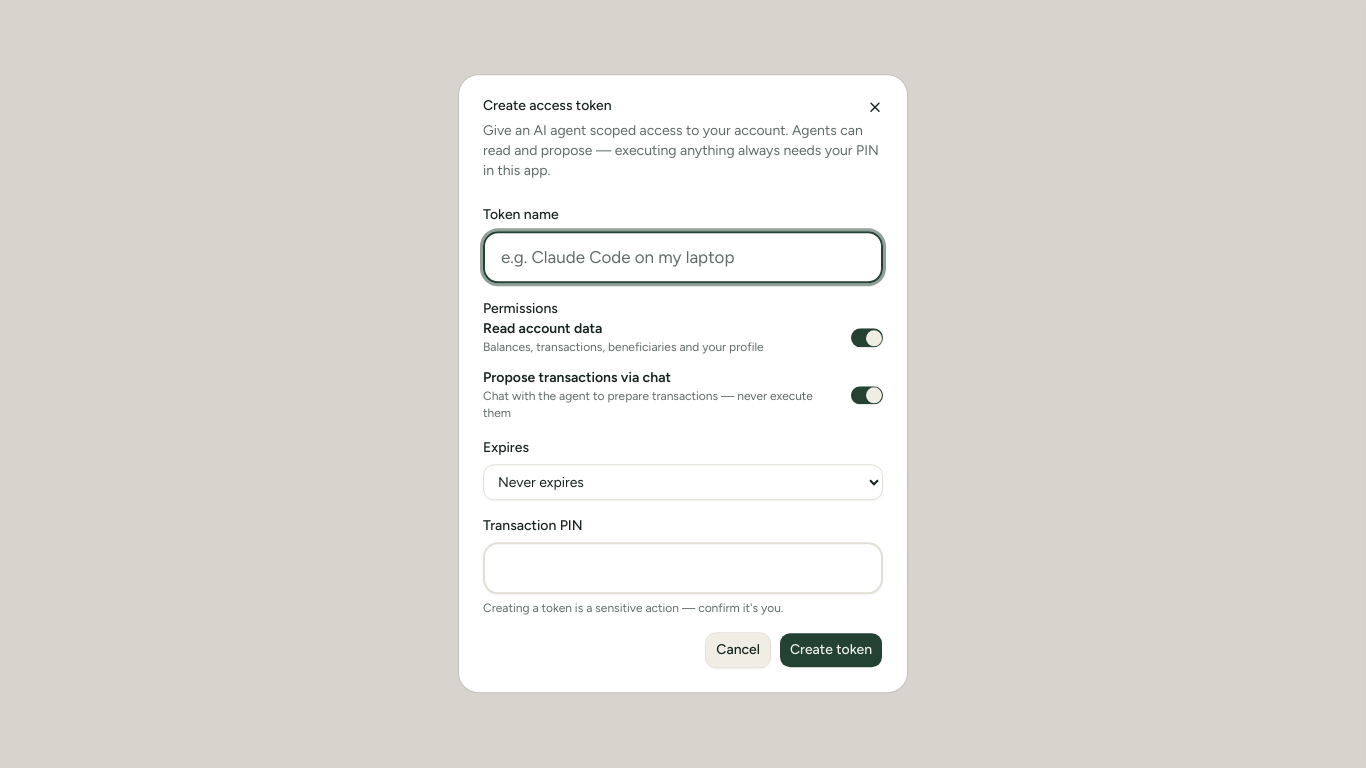
it: CreateTokenDialog › maps PIN errors to distinct copy (lockout)
This screenshot has width=1366, height=768.
Type "Claude" into the field labelled "Token name".
click(683, 257); type("Claude")  # box top-left (483, 231), bottom-right (883, 283)
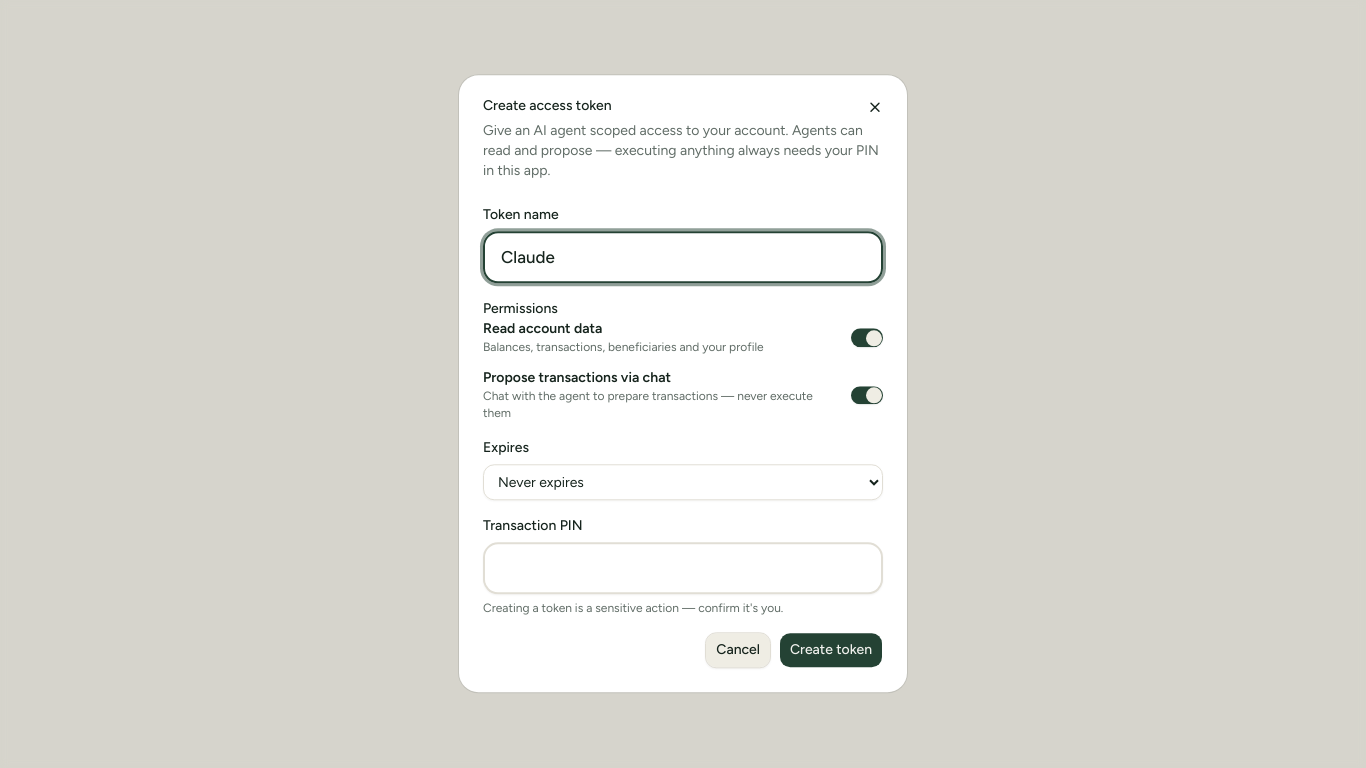
Type "1234" into the password field labelled "Transaction PIN".
click(683, 569); type("1234")  # box top-left (483, 543), bottom-right (883, 595)
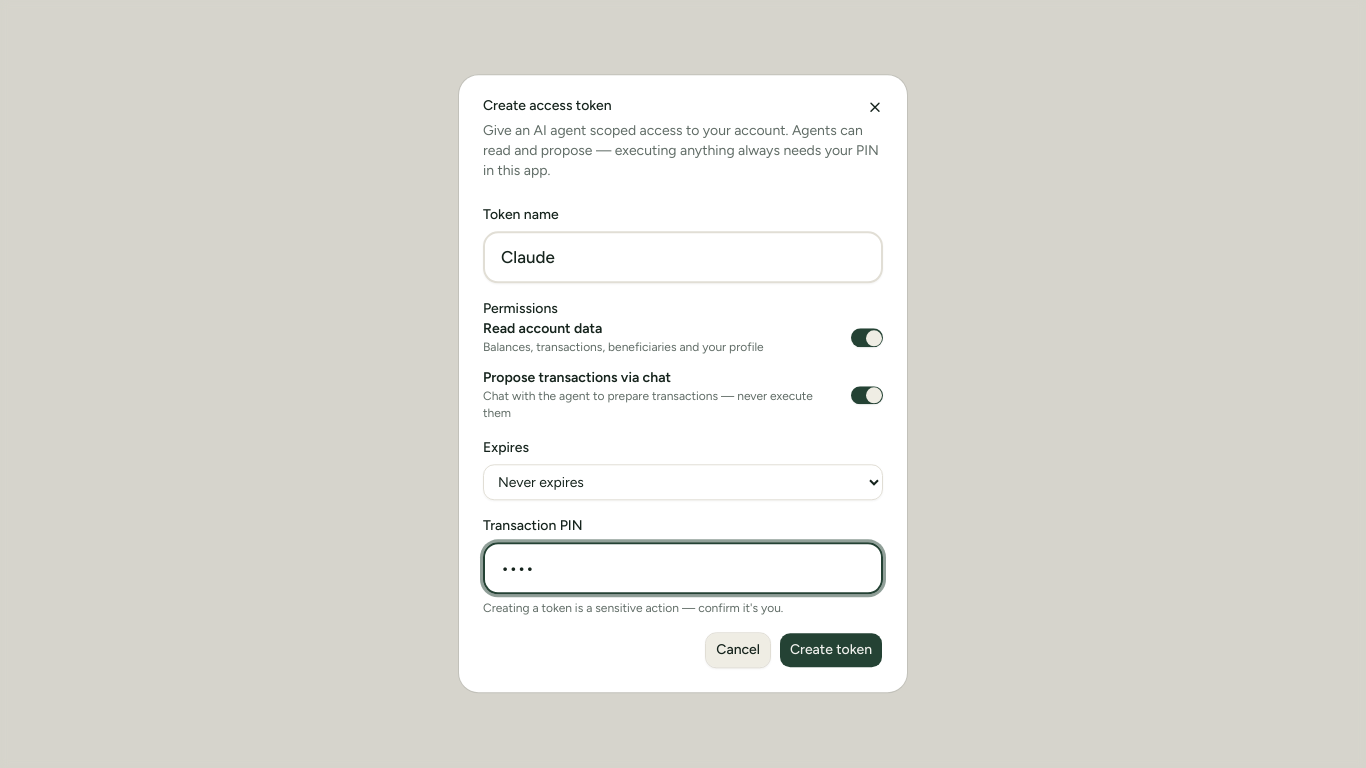
Click the button "Create token".
click(831, 651)  # box top-left (779, 633), bottom-right (883, 669)
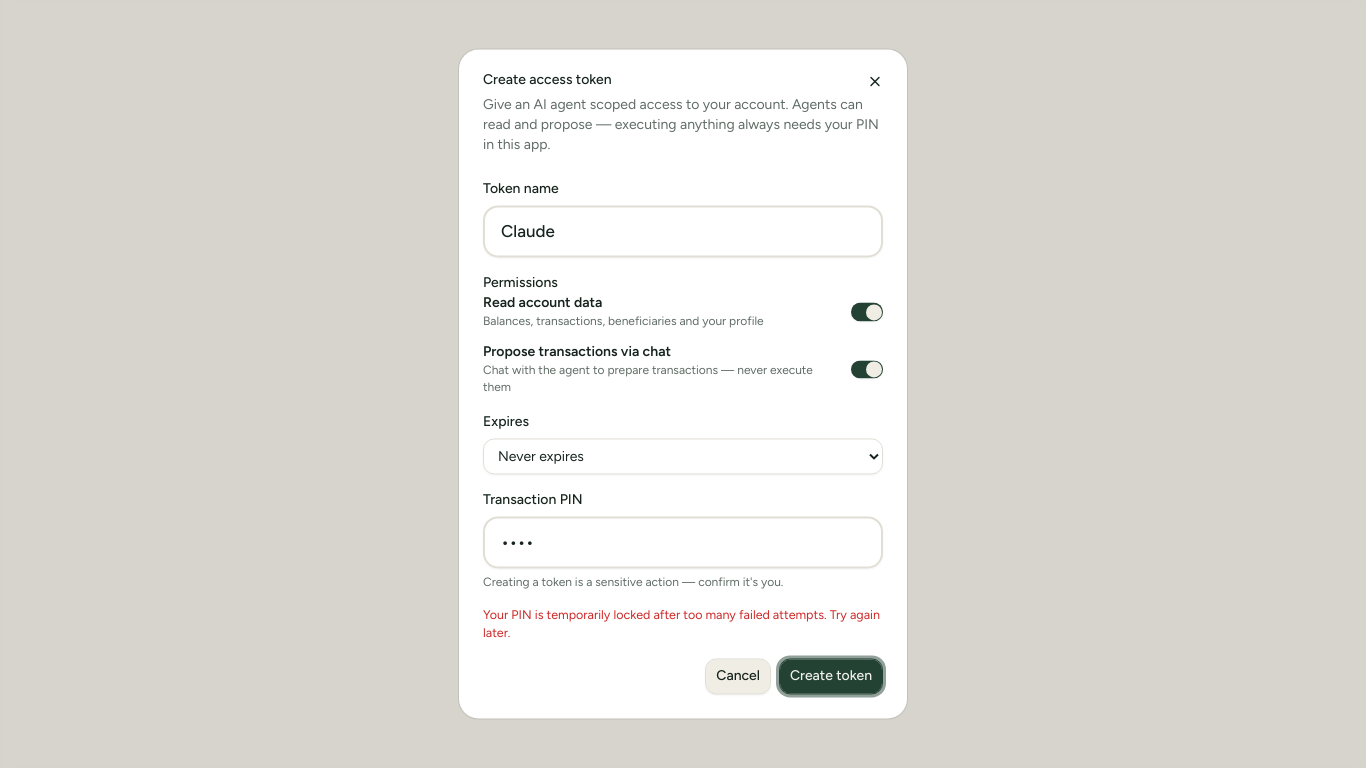
Expected: the text "Your PIN is temporarily locked after too many failed attempts. Try again later." is shown, top-left (483, 607), bottom-right (883, 643)
